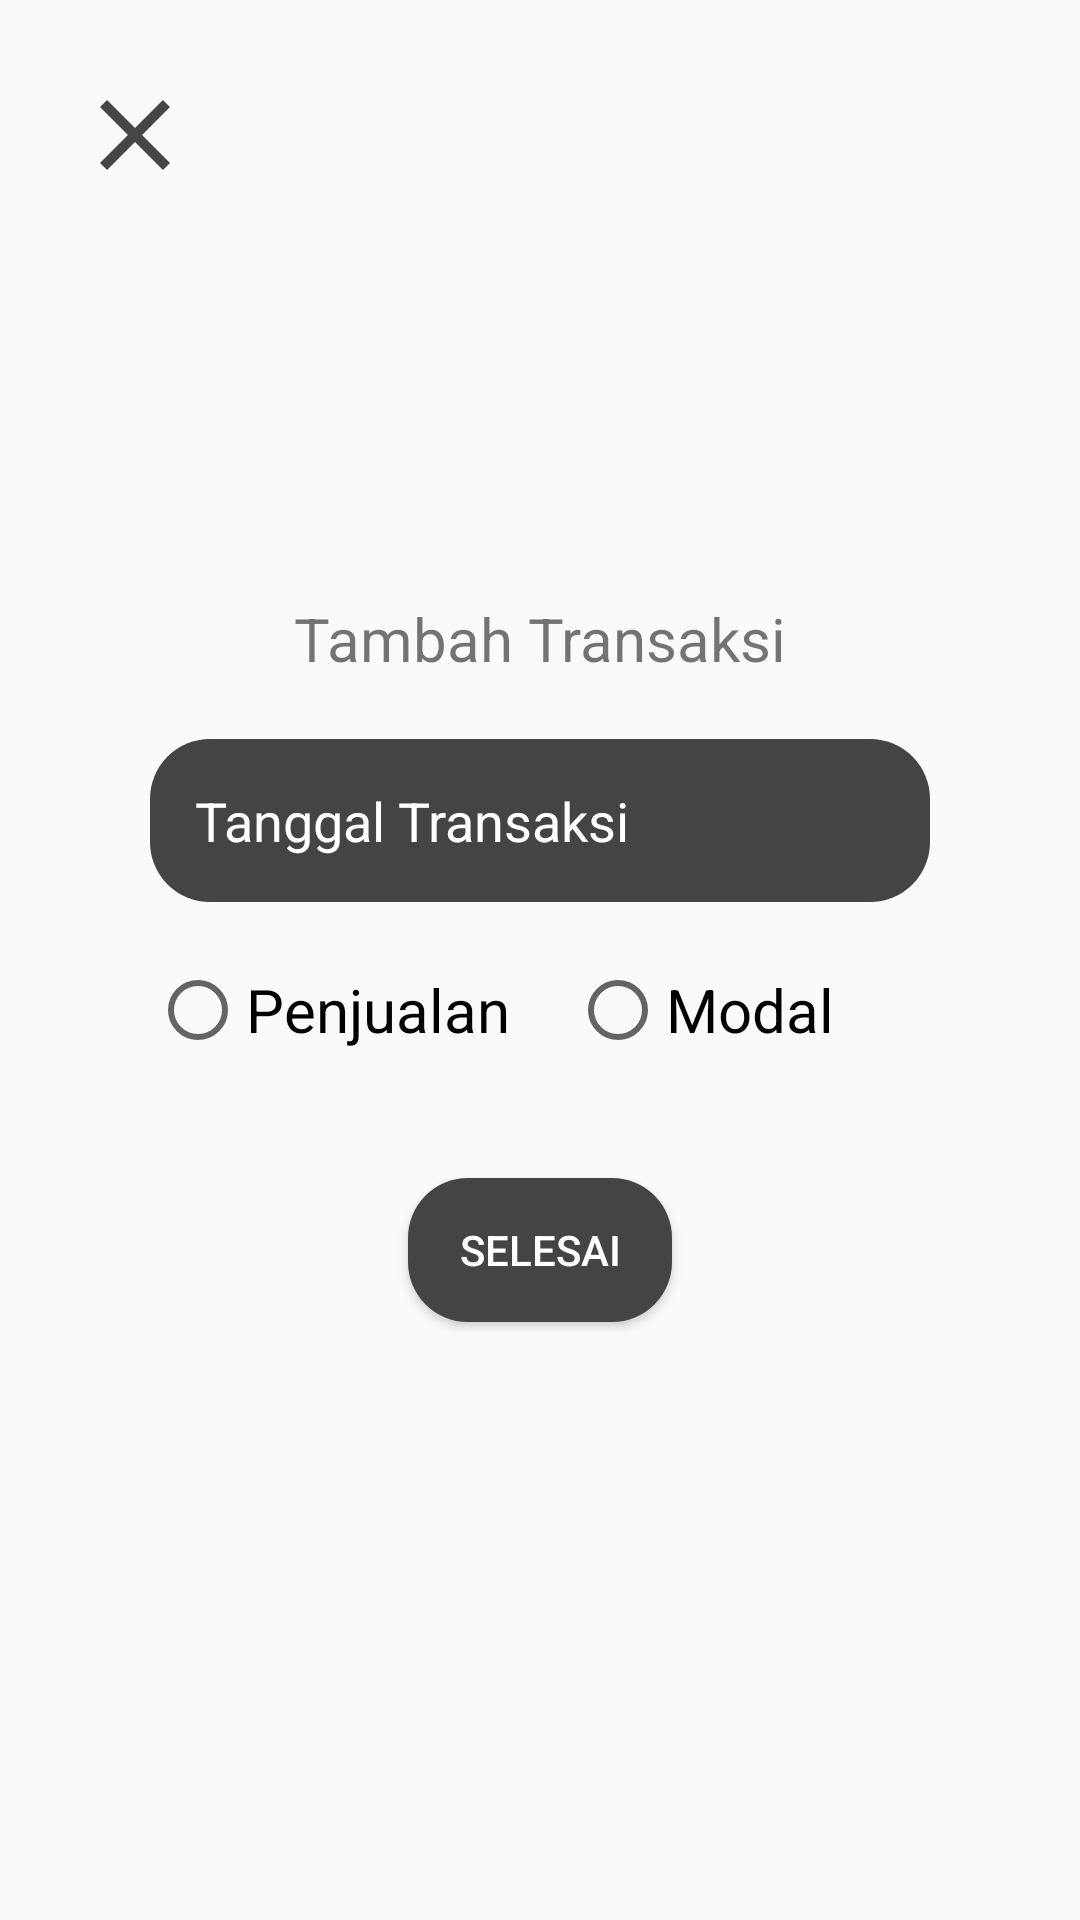

Icons on this 1080 × 1920 Android screen, each with its box as (x1, y1, x2, y2):
close: (100, 100, 170, 170)
